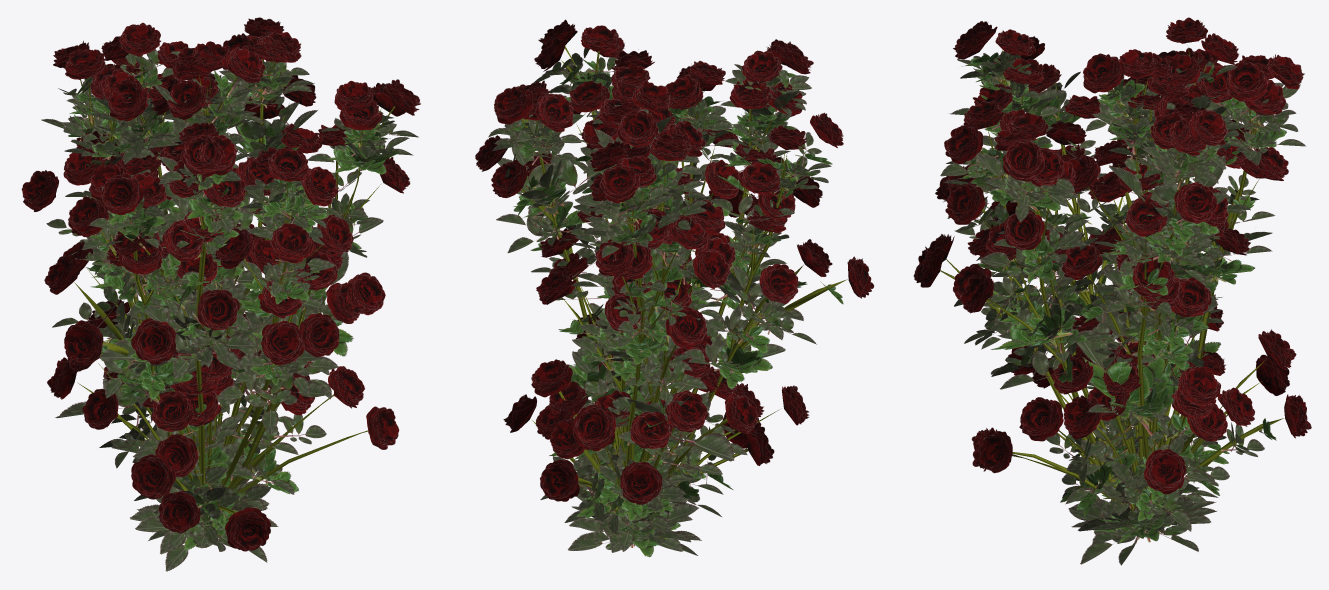
The model's file is rose_bush.glb.
3 views of the same model, side by side, from view 1: azimuth 30°, elevation 25°; view 2: azimuth 150°, elevation 25°; view 3: azimuth 270°, elevation 25° (orthographic). The views are drawn at different scales.
Parts seen in each view (by area): view 1: obj_rose_bush_3f97dc; view 2: obj_rose_bush_3f97dc; view 3: obj_rose_bush_3f97dc.
Boxes of the visible parts, x1=… form: obj_rose_bush_3f97dc: x1=21, y1=17, x2=420, y2=571; obj_rose_bush_3f97dc: x1=475, y1=19, x2=874, y2=557; obj_rose_bush_3f97dc: x1=913, y1=17, x2=1311, y2=565.
Bounding box in the file's own units: 0.3255 × 0.45 × 0.3226.
3 materials, 3 textured.
